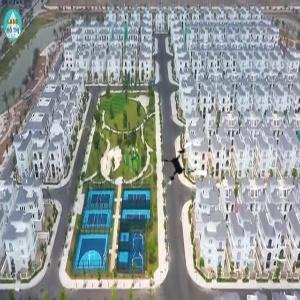drone: (160, 141, 212, 193)
